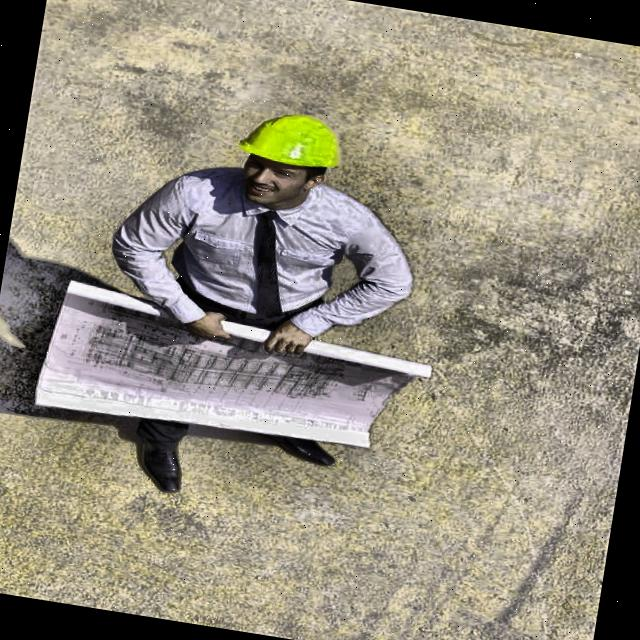helmet: (222, 96, 360, 228)
